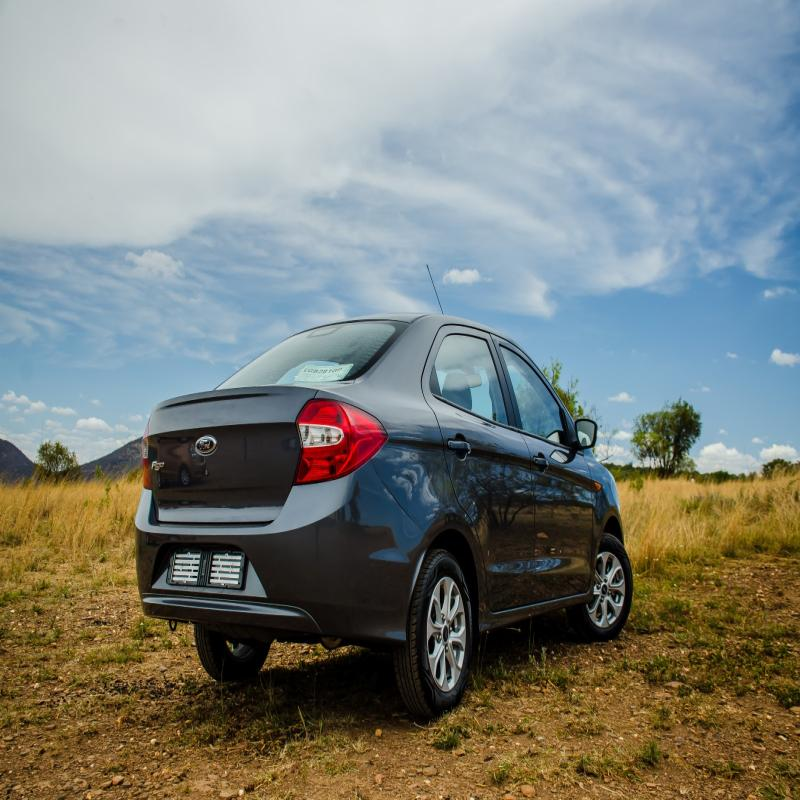car: (102, 278, 670, 696)
